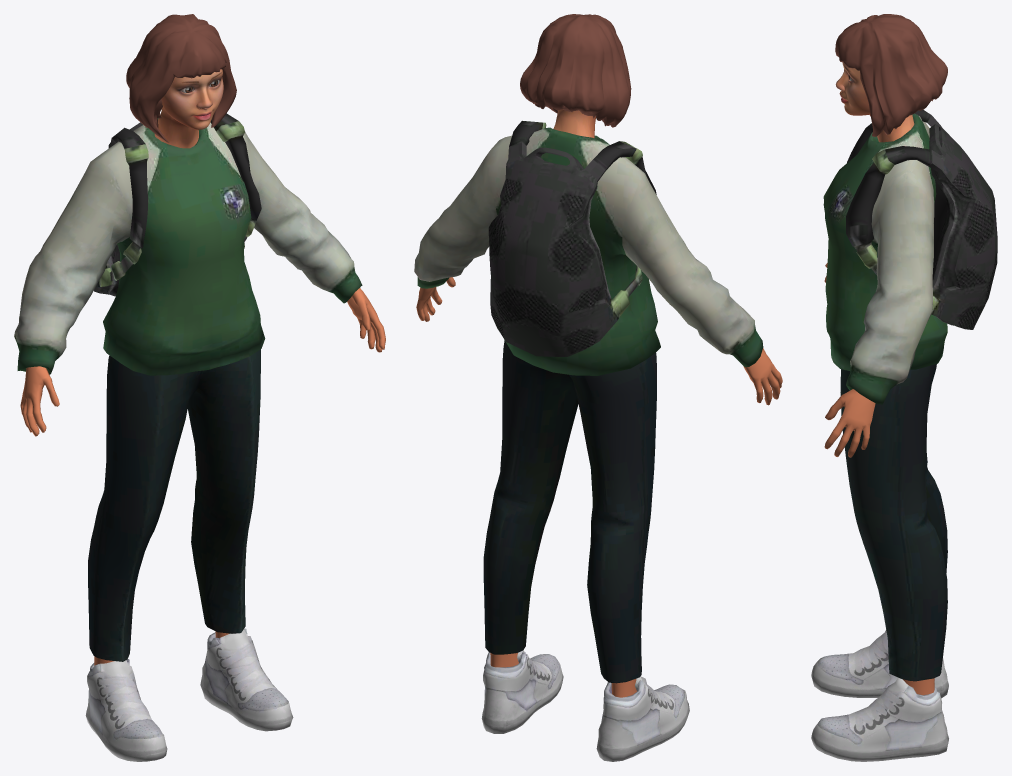
File: customer(breathing).glb
3 renders of one model, left to right at view 1: azimuth 30°, elevation 25°; view 2: azimuth 150°, elevation 25°; view 3: azimuth 270°, elevation 25°, orthographic.
Visible parts, largest first — view 1: node_id93, node_id87, node_id90, node_id96, node_id78, node_id84; view 2: node_id93, node_id87, node_id90, node_id96, node_id84, node_id78; view 3: node_id93, node_id87, node_id90, node_id96, node_id84, node_id78.
Part boxes in pixels (<box>): node_id93: <box>14,113,362,375</box>; node_id87: <box>88,349,260,661</box>; node_id90: <box>85,628,293,761</box>; node_id96: <box>126,14,236,142</box>; node_id78: <box>154,69,223,148</box>; node_id84: <box>20,288,385,665</box>; node_id93: <box>414,120,763,375</box>; node_id87: <box>483,340,656,683</box>; node_id90: <box>481,650,689,761</box>; node_id96: <box>520,14,631,127</box>; node_id84: <box>416,277,782,697</box>; node_id78: <box>553,109,595,138</box>; node_id93: <box>823,109,997,404</box>; node_id87: <box>840,364,947,681</box>; node_id90: <box>811,630,948,761</box>; node_id96: <box>835,14,947,136</box>; node_id84: <box>824,263,934,695</box>; node_id78: <box>835,62,914,142</box>.
Size of the model in its own units: 0.2687 by 0.512 by 0.1227.
9 materials, 9 textured.
